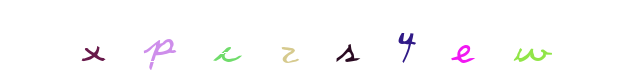4: (366, 0, 446, 80)
C: (235, 0, 315, 80)
E: (374, 0, 454, 80)
P: (187, 0, 267, 80)
S: (308, 0, 388, 80)
W: (423, 0, 503, 80)
X: (164, 0, 244, 80)
Z: (280, 0, 360, 80)
